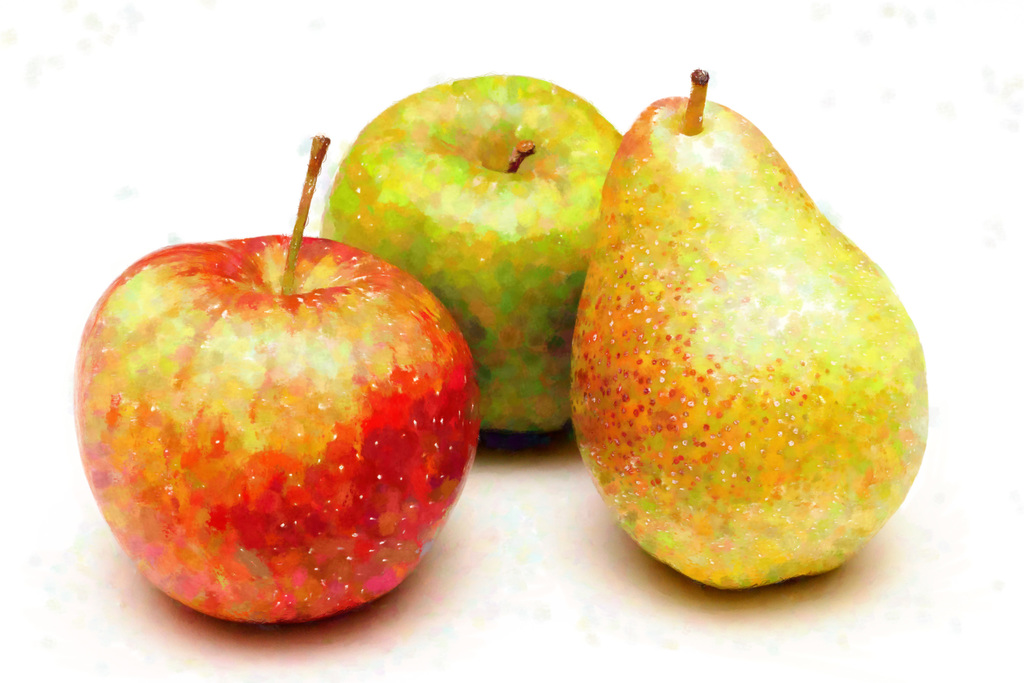Apple: (81, 205, 488, 631), (325, 71, 621, 430)
